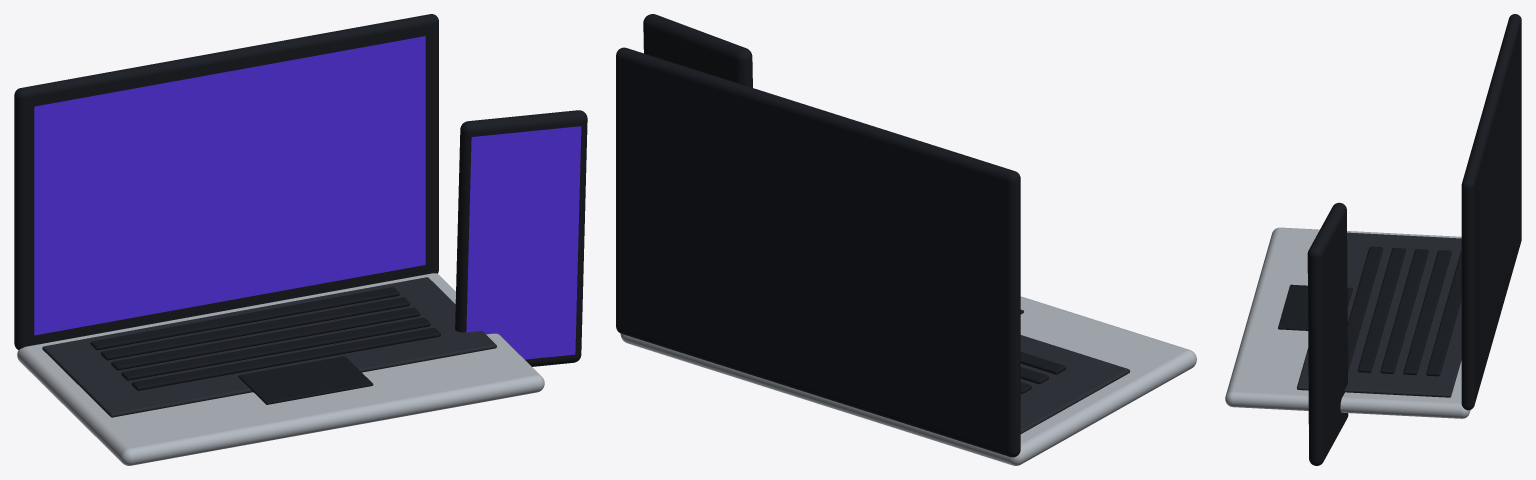
File: device-duo-v1.glb
3 views of the same model, side by side, from view 1: azimuth 30°, elevation 25°; view 2: azimuth 150°, elevation 25°; view 3: azimuth 270°, elevation 25° (orthographic). The views are drawn at different scales.
Visible parts, largest first — view 1: LaptopDisplay, LaptopBase, PhoneDisplay, LaptopDisplayBack, KeyboardDeck, PhoneShell, Trackpad, KeyRow_0, KeyRow_1, KeyRow_2, KeyRow_3, KeyRow_4; view 2: LaptopDisplayBack, LaptopBase, KeyboardDeck, PhoneShell; view 3: LaptopDisplayBack, LaptopBase, KeyboardDeck, PhoneShell, KeyRow_1, KeyRow_2, KeyRow_3, KeyRow_0, KeyRow_4, Trackpad.
Part boxes in pixels (x1,y1,x2,y2): LaptopDisplay: [34, 36, 425, 335]; LaptopBase: [17, 273, 544, 465]; PhoneDisplay: [466, 126, 581, 359]; LaptopDisplayBack: [14, 14, 438, 349]; KeyboardDeck: [42, 277, 496, 417]; PhoneShell: [455, 110, 587, 366]; Trackpad: [238, 356, 373, 404]; KeyRow_0: [90, 287, 399, 350]; KeyRow_1: [101, 297, 409, 360]; KeyRow_2: [111, 307, 420, 370]; KeyRow_3: [121, 317, 430, 380]; KeyRow_4: [131, 327, 440, 390]; LaptopDisplayBack: [616, 47, 1020, 457]; LaptopBase: [620, 296, 1196, 465]; KeyboardDeck: [1020, 335, 1130, 433]; PhoneShell: [643, 14, 752, 87]; LaptopDisplayBack: [1461, 14, 1521, 410]; LaptopBase: [1225, 227, 1470, 418]; KeyboardDeck: [1297, 232, 1461, 397]; PhoneShell: [1307, 202, 1348, 465]; KeyRow_1: [1403, 250, 1451, 375]; KeyRow_2: [1380, 249, 1428, 373]; KeyRow_3: [1357, 248, 1405, 372]; KeyRow_0: [1426, 252, 1461, 376]; KeyRow_4: [1347, 246, 1383, 370]; Trackpad: [1278, 284, 1352, 330].
Size of the model in its own units: 4.5 by 2.64 by 2.71.
